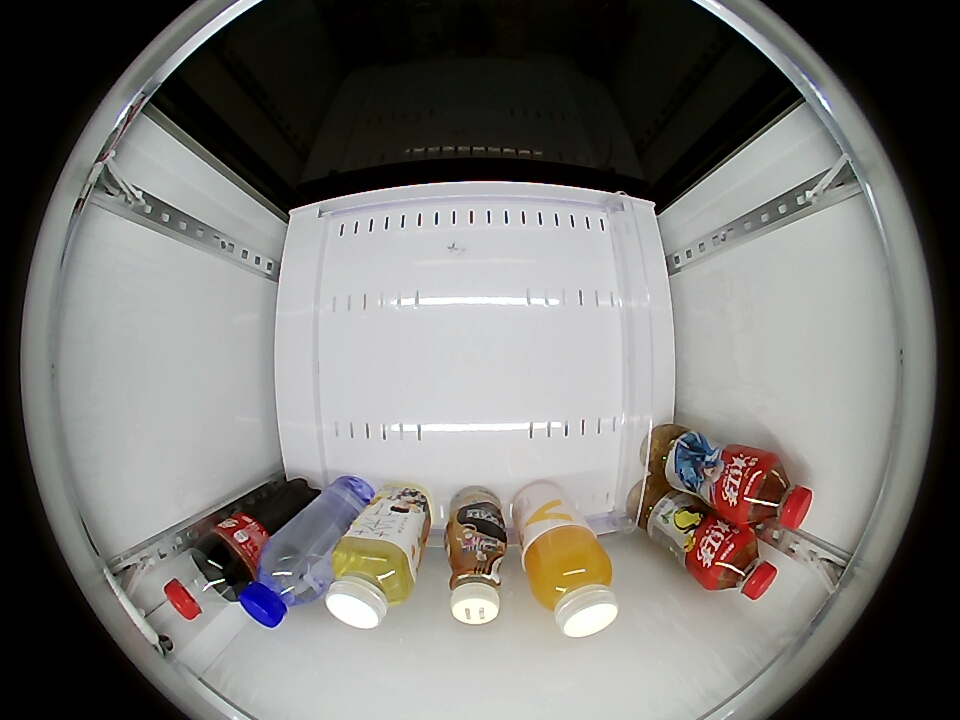aerbeisi: (240, 548, 322, 628)
binghongcha: (733, 453, 814, 530), (708, 530, 778, 600)
chapai2: (325, 534, 419, 629)
kafei: (445, 523, 508, 626)
kele-b: (165, 543, 242, 621)
weic: (522, 525, 618, 637)
